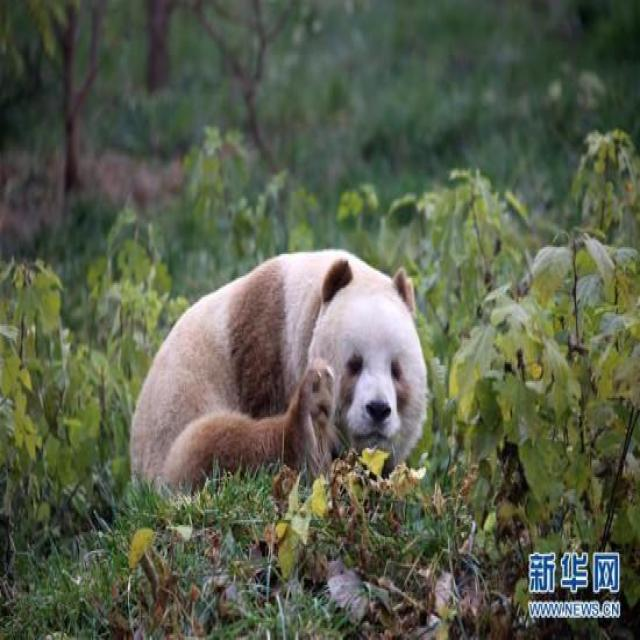panda: (88, 227, 482, 502)
